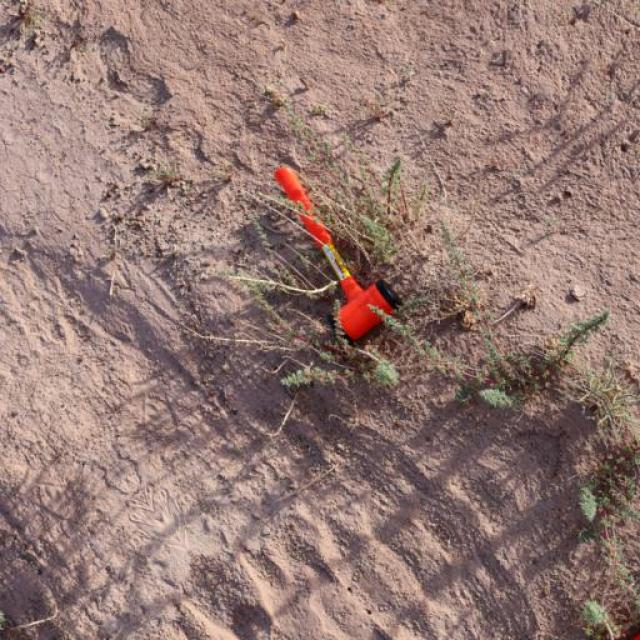mallet: (271, 164, 401, 341)
